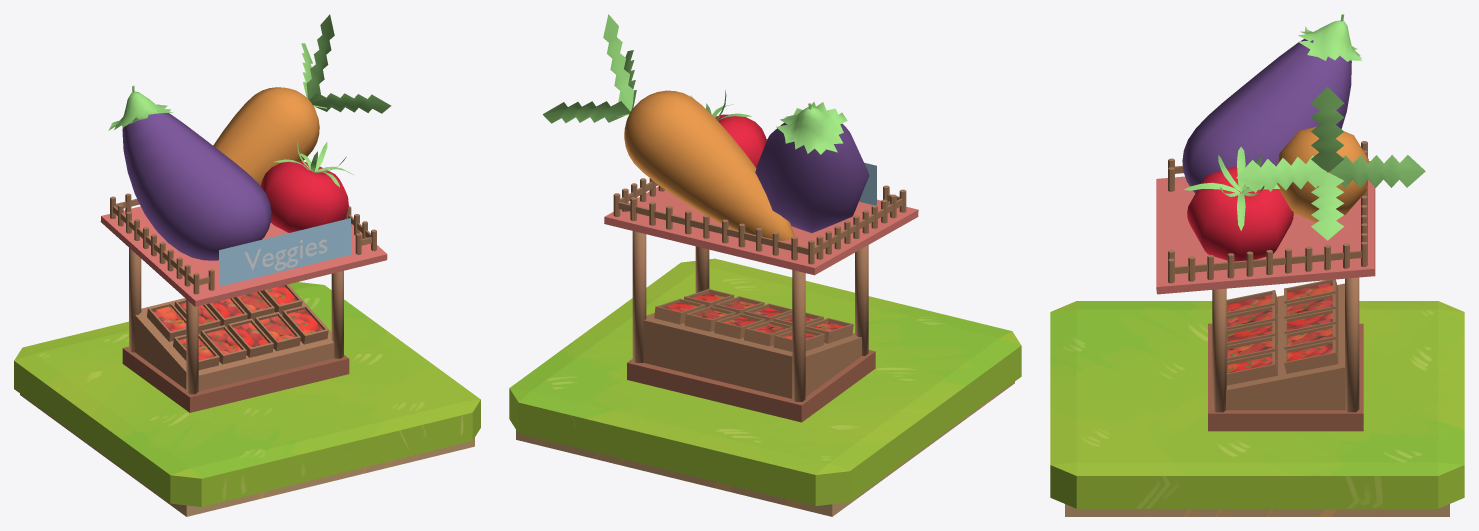
Rendered from gemeine_gemuesestand_2 Kopie.fbx.
3 renders of one model, left to right at view 1: azimuth 30°, elevation 25°; view 2: azimuth 150°, elevation 25°; view 3: azimuth 270°, elevation 25°, orthographic. The views are drawn at different scales.
Parts seen in each view (by area): view 1: Cube.001, Sphere, Sphere.001, dach, Cube.005, Cube.008, tomate_body, Cube.006, Plane, gemuese, Cylinder.020, dach_zaun (+5 smaller); view 2: Cube.001, Sphere.001, Cube.005, Sphere, dach, Cylinder.020, dach_zaun, Cube.006, Cube.008, Cube, Plane.004, Cylinder (+2 smaller); view 3: Cube.001, Sphere, dach, Plane.004, tomate_body, Cube.008, Cube.005, Cube.006, gemuese, Cylinder.020, dach_zaun, Cube (+3 smaller).
Part boxes in pixels (x1,y1,x2,y2): Cube.001: (14, 282, 480, 506); Sphere: (122, 111, 271, 260); Sphere.001: (213, 87, 319, 185); dach: (100, 206, 387, 306); Cube.005: (135, 284, 334, 391); Cube.008: (147, 284, 328, 370); tomate_body: (260, 161, 348, 232); Cube.006: (122, 346, 349, 412); Plane: (219, 218, 350, 286); gemuese: (152, 285, 323, 360); Cylinder.020: (129, 248, 343, 394); dach_zaun: (110, 193, 376, 294); Cube.001: (509, 258, 1021, 505); Sphere.001: (624, 90, 794, 240); Cube.005: (643, 313, 861, 398); Sphere: (755, 122, 869, 232); dach: (604, 186, 918, 275); Cylinder.020: (632, 231, 868, 401); dach_zaun: (613, 178, 906, 264); Cube.006: (627, 350, 875, 422); Cube.008: (654, 288, 853, 351); Cube: (516, 382, 1014, 516); Plane.004: (543, 14, 636, 123); Cylinder: (776, 101, 847, 154); Cube.001: (1050, 301, 1464, 508); Sphere: (1182, 39, 1351, 193); dach: (1156, 161, 1375, 294); Plane.004: (1236, 86, 1425, 240); tomate_body: (1187, 166, 1293, 261); Cube.008: (1226, 279, 1338, 385); Cube.005: (1226, 283, 1345, 410); Cube.006: (1208, 323, 1363, 431); gemuese: (1228, 282, 1332, 372); Cylinder.020: (1212, 277, 1359, 412); dach_zaun: (1168, 141, 1367, 283); Cube: (1065, 504, 1449, 516).
Size of the model in its own units: 113 by 118 by 108.
Materials: 12 (3 with a texture image).
